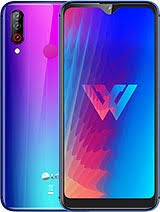lg: (56, 1, 160, 212)
